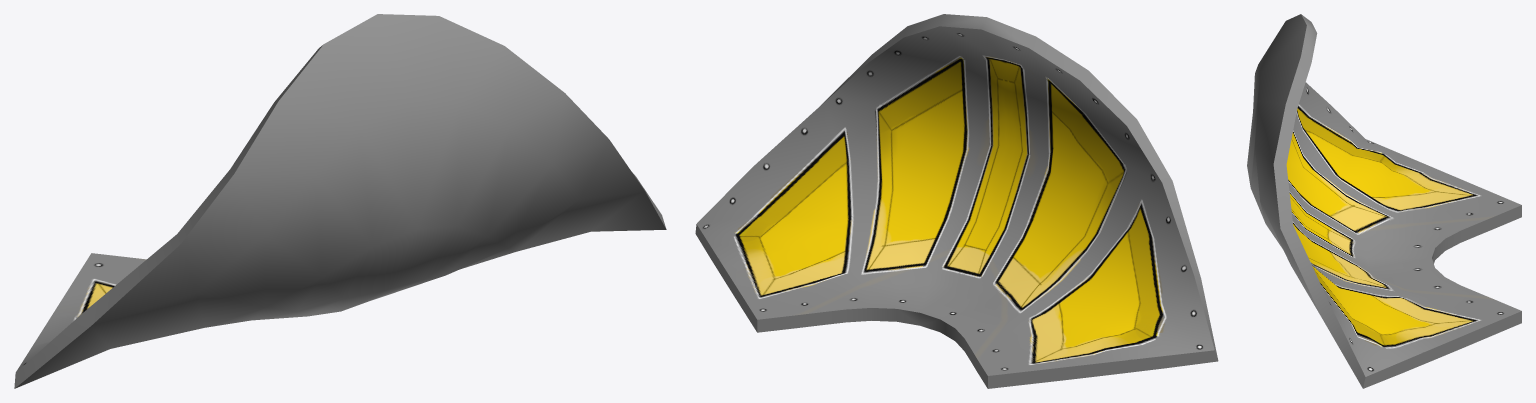
Rendered from space_concave_corner.gltf.
The picture shows the model from 3 angles, left to right: view 1: azimuth 30°, elevation 25°; view 2: azimuth 150°, elevation 25°; view 3: azimuth 270°, elevation 25°; orthographic projection. The views are drawn at different scales.
Visible parts, largest first — view 1: space_concave_corner_glb; view 2: space_concave_corner_glb; view 3: space_concave_corner_glb.
Boxes of the visible parts, x1=… form: space_concave_corner_glb: x1=14, y1=14, x2=666, y2=388; space_concave_corner_glb: x1=695, y1=14, x2=1218, y2=388; space_concave_corner_glb: x1=1247, y1=14, x2=1521, y2=388.
Size of what is drawn, in the model's own units: 10.28 by 4.89 by 4.97.
1 material, 1 textured.
